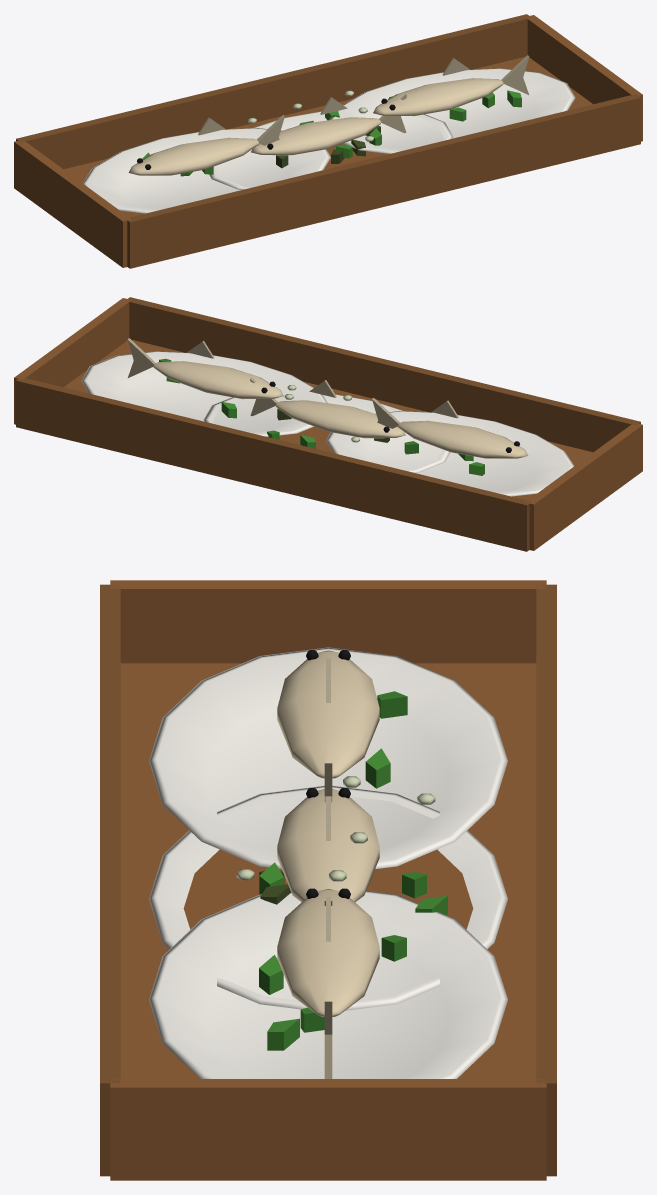
File: Fish_Steamed.fbx
3 views of the same model, one above another, from view 1: azimuth 30°, elevation 25°; view 2: azimuth 150°, elevation 25°; view 3: azimuth 270°, elevation 25° (orthographic). The views are drawn at different scales.
Visible parts, largest first — view 1: Fish_Steamed__Stack, Fish_Steamed, Fish_Steamed__Rotten; view 2: Fish_Steamed__Stack, Fish_Steamed, Fish_Steamed__Rotten; view 3: Fish_Steamed__Stack, Fish_Steamed, Fish_Steamed__Rotten.
Boxes of the visible parts, x1,y1,x2,y2 form: Fish_Steamed__Stack: (14,14,642,268); Fish_Steamed: (209,94,453,189); Fish_Steamed__Rotten: (248,90,380,168); Fish_Steamed__Stack: (14,297,642,551); Fish_Steamed: (203,377,450,472); Fish_Steamed__Rotten: (277,385,389,442); Fish_Steamed__Stack: (100,580,556,1180); Fish_Steamed: (149,785,507,1010); Fish_Steamed__Rotten: (236,776,435,904).
Size of the model in its own units: 0.468 by 0.0655 by 0.178.
